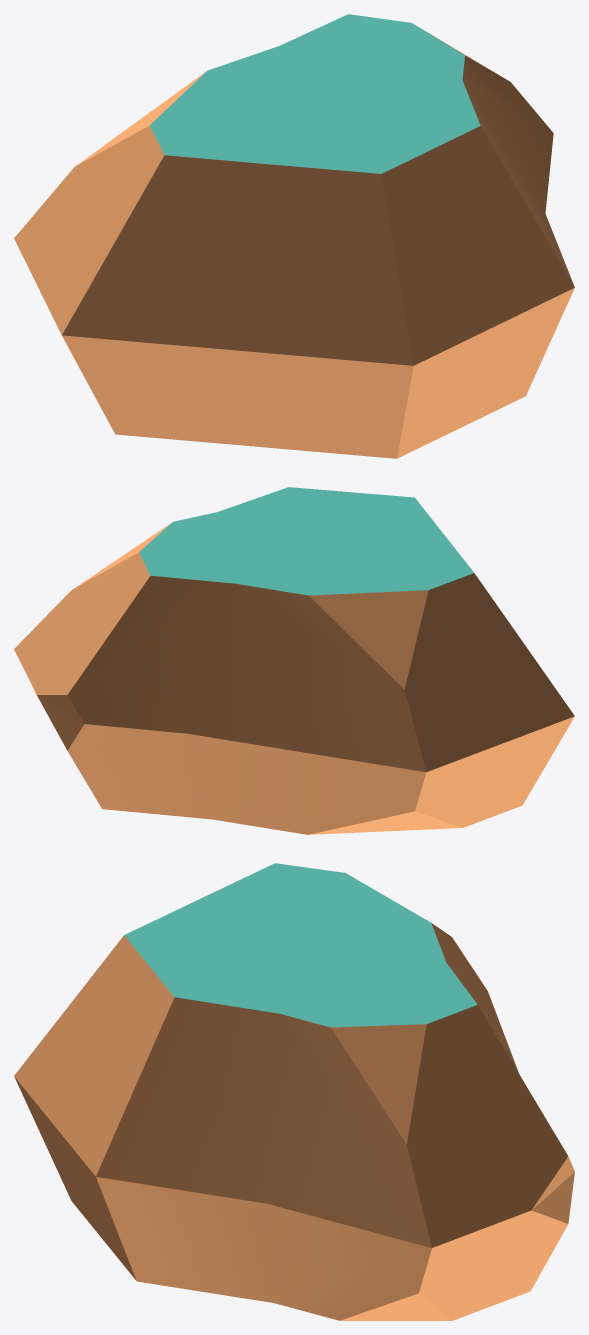
Rendered from rock_large6.obj.
The picture shows the model from 3 angles, top to bottom: view 1: azimuth 30°, elevation 25°; view 2: azimuth 150°, elevation 25°; view 3: azimuth 270°, elevation 25°; orthographic projection. The views are drawn at different scales.
Parts seen in each view (by area): view 1: rock_large6; view 2: rock_large6; view 3: rock_large6.
Boxes of the visible parts, x1,y1,x2,y2 form: rock_large6: [14, 14, 574, 458]; rock_large6: [14, 487, 574, 834]; rock_large6: [14, 863, 574, 1320].
Size of the model in its own units: 10.95 by 4.79 by 8.99.
